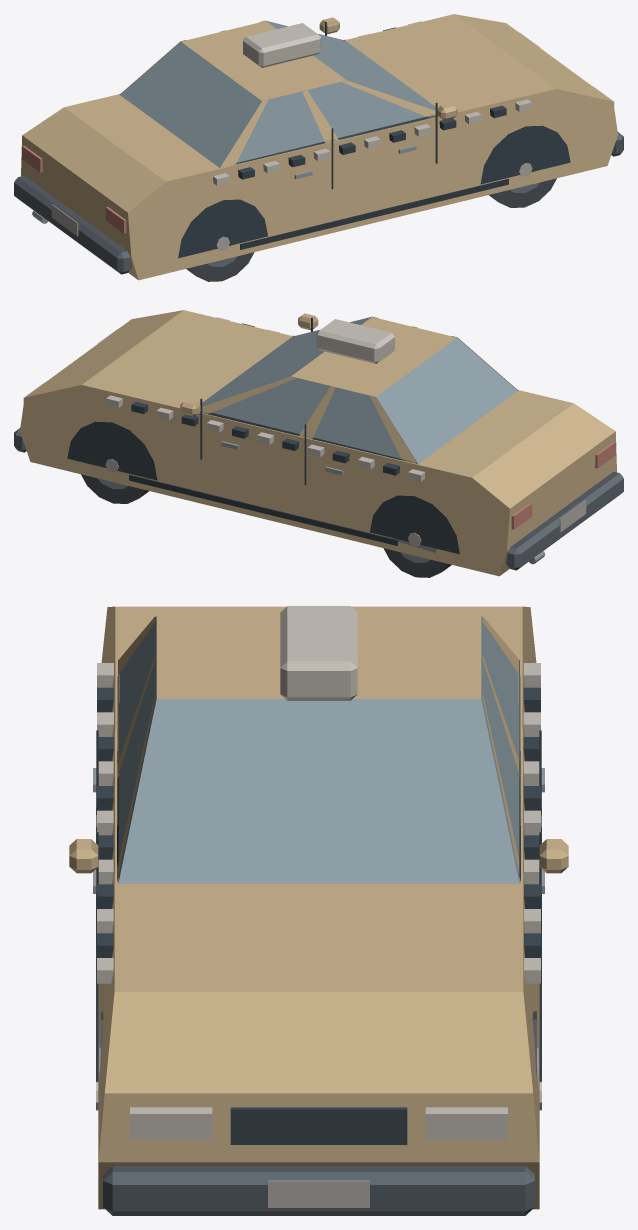
The model's file is vehiculo_taxi.glb.
3 views of the same model, one above another, from view 1: azimuth 30°, elevation 25°; view 2: azimuth 150°, elevation 25°; view 3: azimuth 270°, elevation 25° (orthographic). The views are drawn at different scales.
Size of the model in its own units: 4.85 by 1.62 by 2.06.
